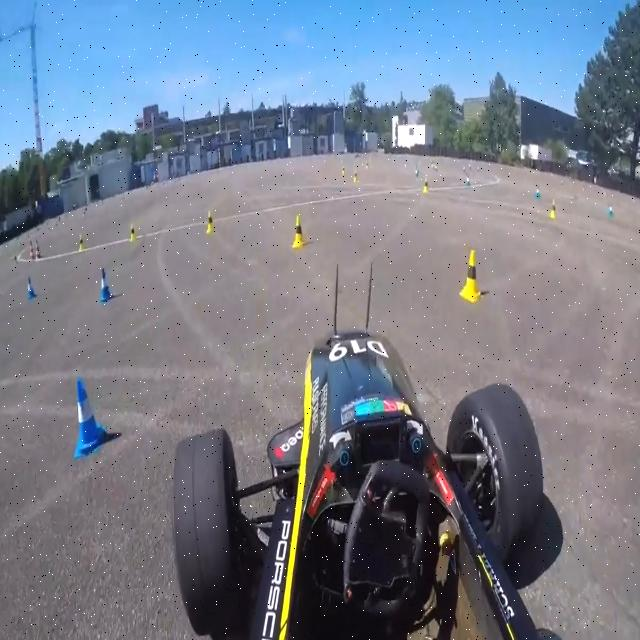blue_cone: (74, 377, 106, 459), (100, 268, 114, 302), (26, 276, 36, 300)
yellow_cone: (459, 248, 483, 304), (292, 213, 306, 250), (207, 210, 215, 234), (130, 222, 138, 242)
